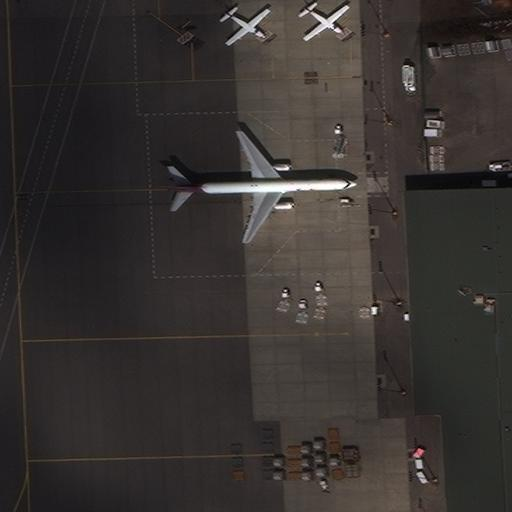Large Civil Transport: (174, 130, 356, 242)
Medium Civil Transport: (224, 8, 268, 44), (303, 5, 347, 40)
